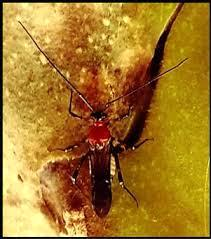Helopeltis-insect: (83, 98, 121, 215)
